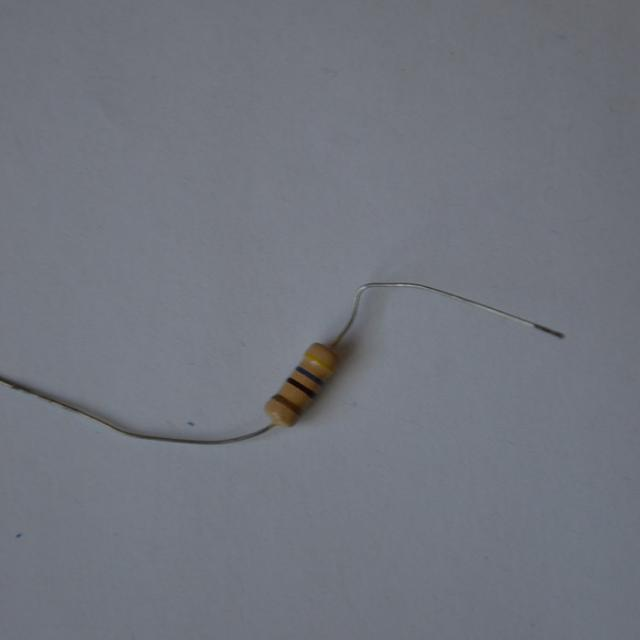brown: (286, 377, 315, 397)
gold: (272, 394, 301, 414)
resistor: (248, 331, 353, 446)
violet: (294, 367, 324, 386)
yellow: (304, 352, 333, 370)
